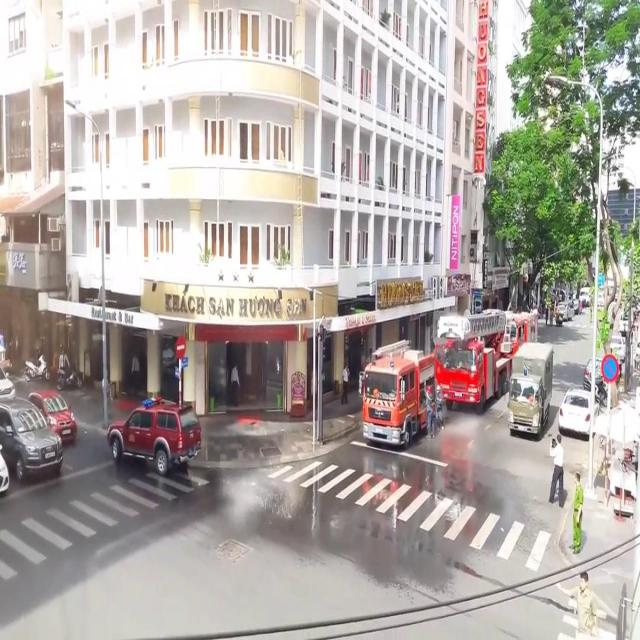car: (107, 396, 201, 474), (0, 394, 62, 480), (28, 389, 76, 440), (558, 386, 590, 434)
truck: (361, 338, 434, 449), (436, 307, 510, 413), (508, 340, 552, 434)
